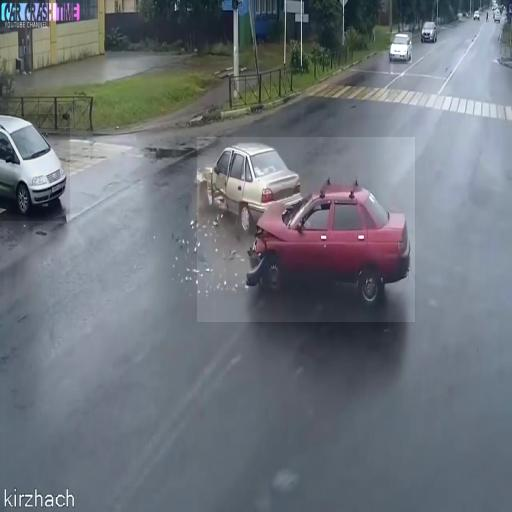小汽车: (0, 114, 70, 221), (390, 32, 412, 63), (420, 20, 436, 45)
小汽车撞小汽车: (197, 137, 415, 322)
